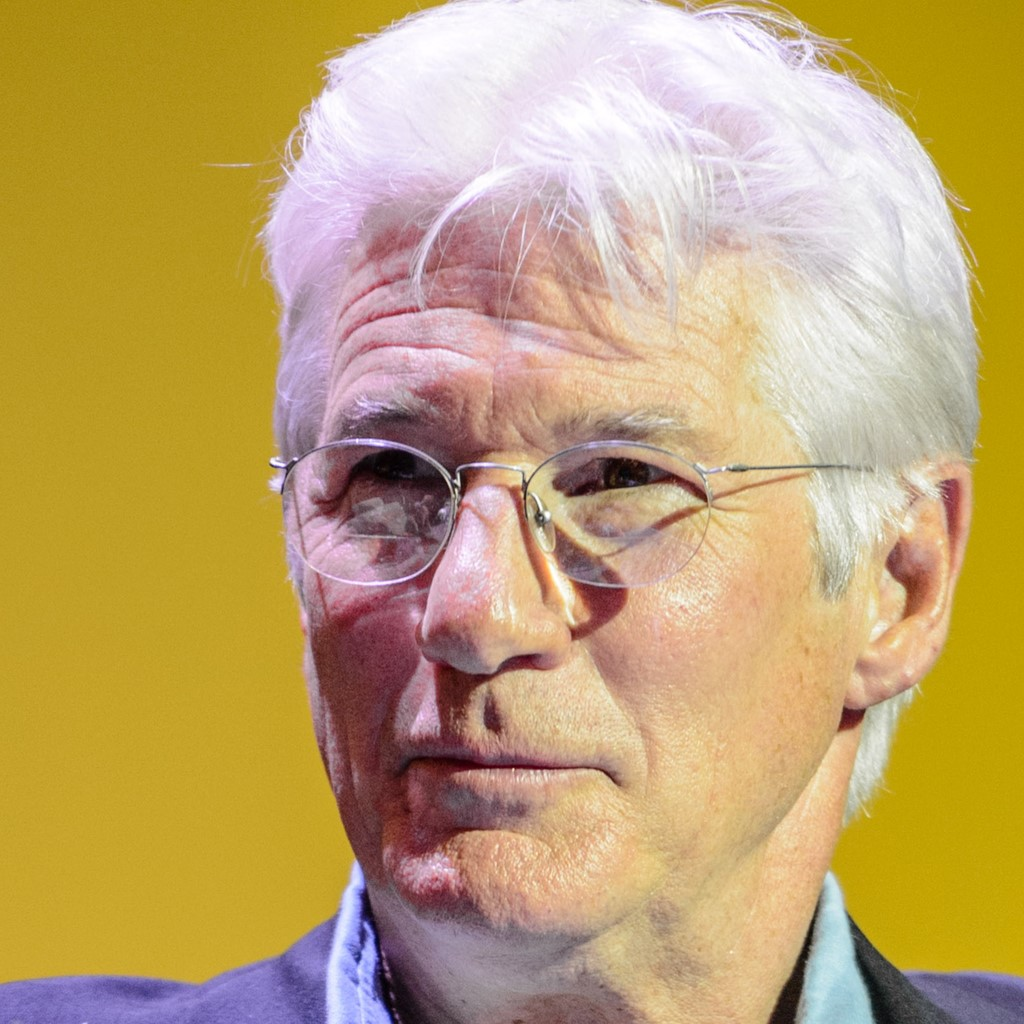sin_mascara: (282, 196, 848, 954)
